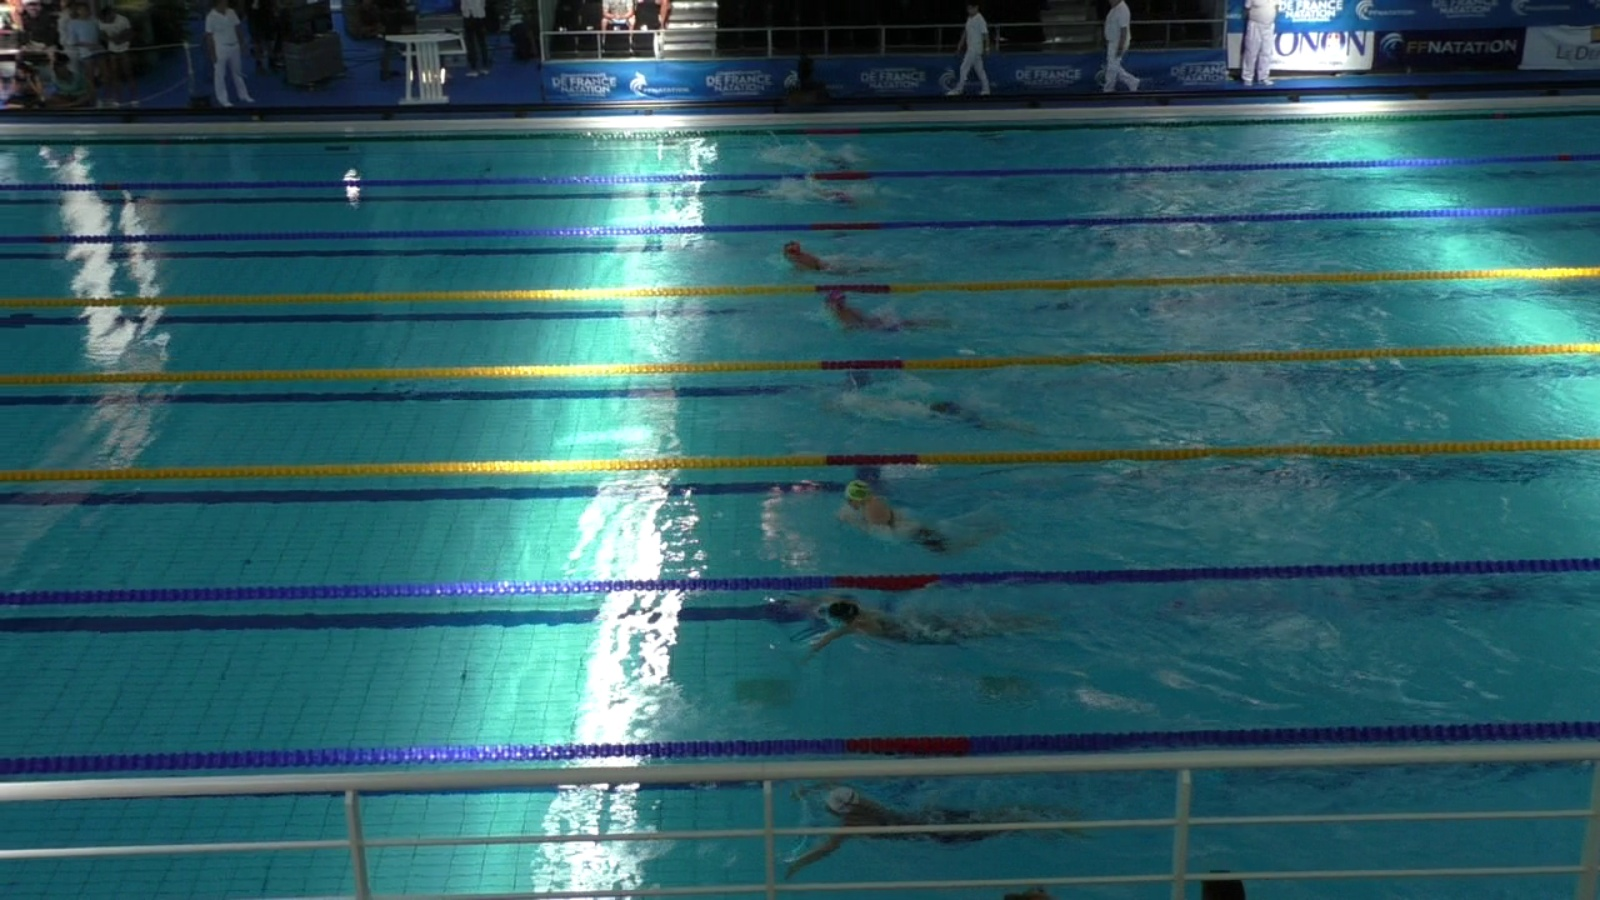swimmerw: (782, 784, 1090, 853), (831, 475, 1025, 573), (790, 595, 1051, 647), (835, 373, 1007, 443), (813, 287, 949, 343), (775, 240, 923, 281), (778, 137, 869, 171), (770, 185, 863, 215)
